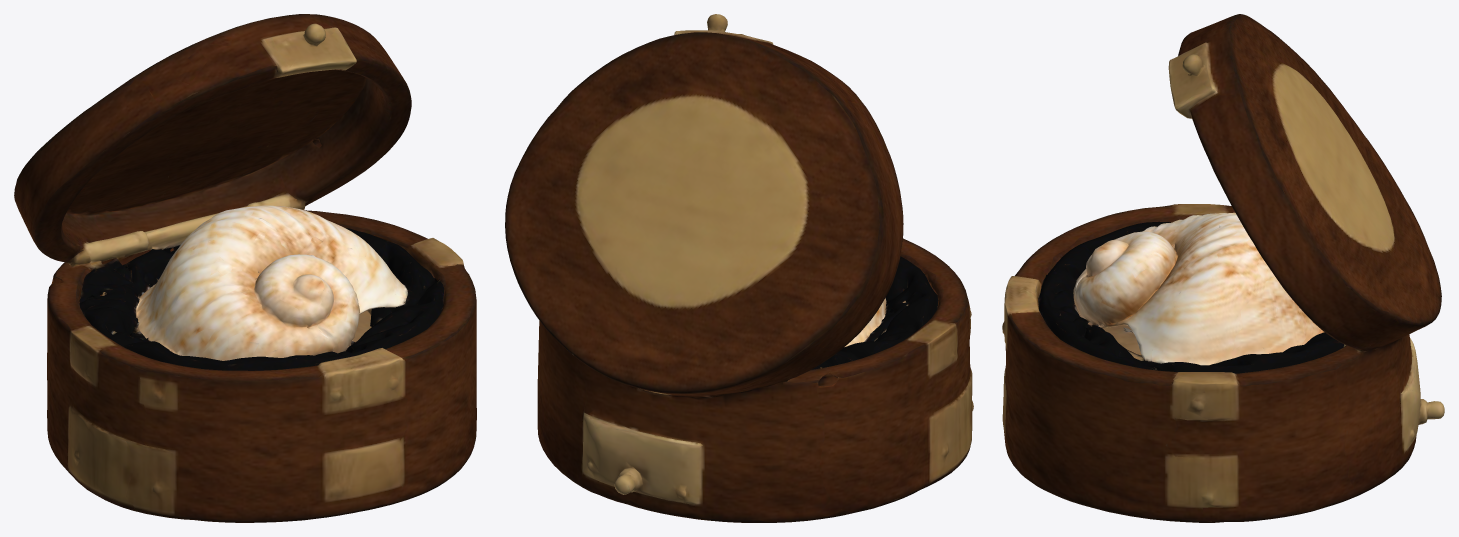
The model's file is generation_compass_1.glb.
3 views of the same model, side by side, from view 1: azimuth 30°, elevation 25°; view 2: azimuth 150°, elevation 25°; view 3: azimuth 270°, elevation 25° (orthographic).
Visible parts, largest first — view 1: geometry_0; view 2: geometry_0; view 3: geometry_0.
Boxes of the visible parts, bbox=[...] form: geometry_0: bbox=[14, 14, 476, 522]; geometry_0: bbox=[505, 14, 973, 522]; geometry_0: bbox=[1002, 14, 1444, 522].
Size of the model in its own units: 0.9803 by 1 by 0.9959.
1 material, 1 textured.
